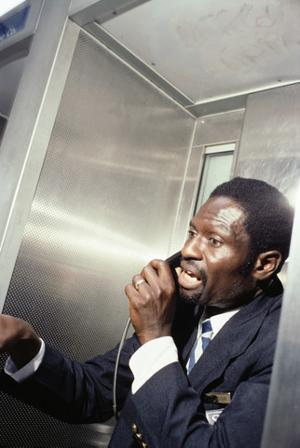person: (2, 171, 300, 447)
